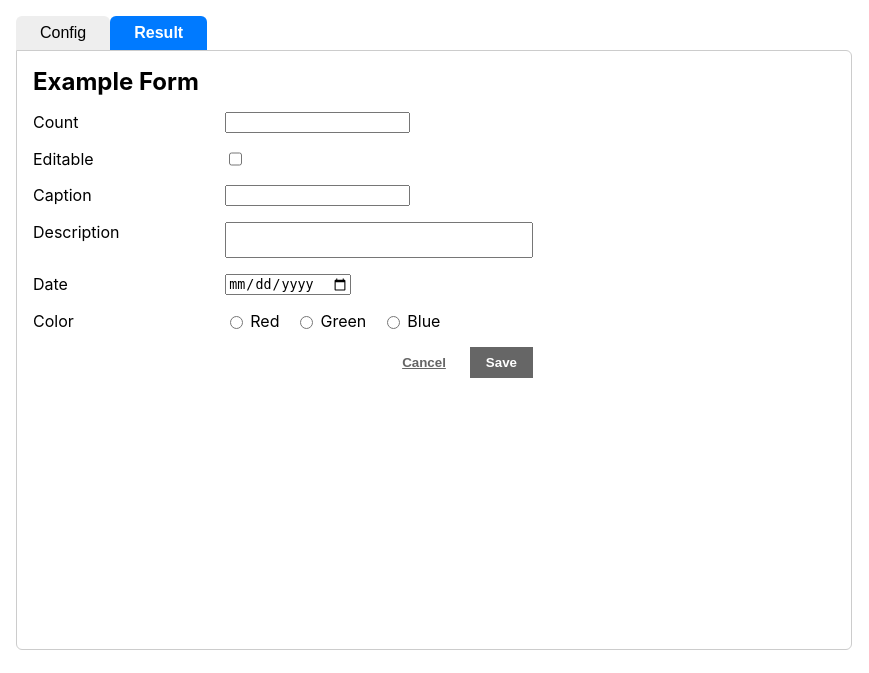
tab switching
Check: the button "Result" is disabled, box [110, 16, 207, 50]
# Switch to the Config tab
Click the button "Config". click: (63, 33)
box: [16, 16, 110, 50]
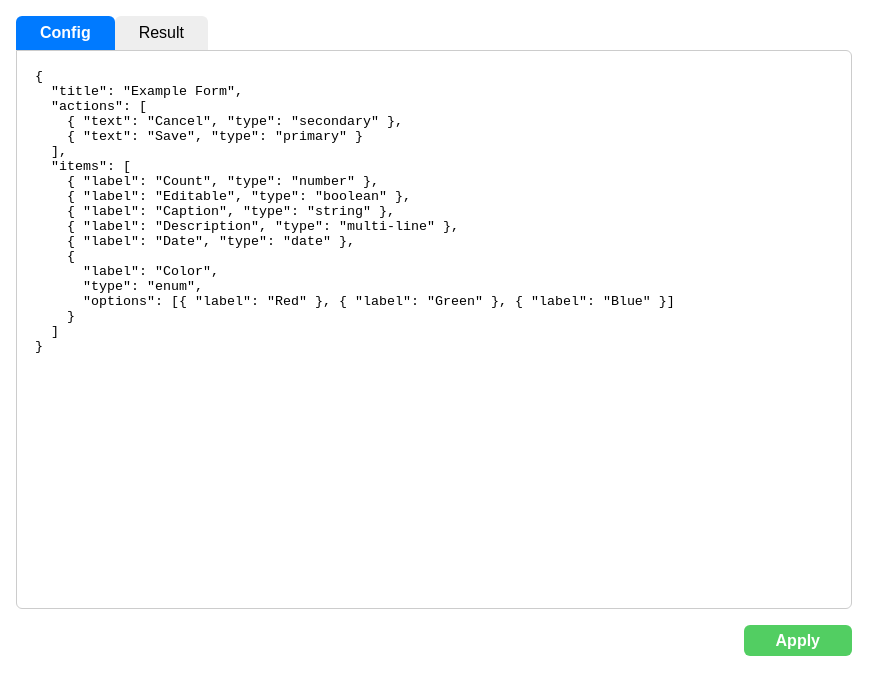
Check: the button "Result" is enabled
Check: the button "Config" is disabled, box [16, 16, 115, 50]
# Switch back to the Result tab
Click the button "Result". click: (161, 33)
box: [115, 16, 208, 50]
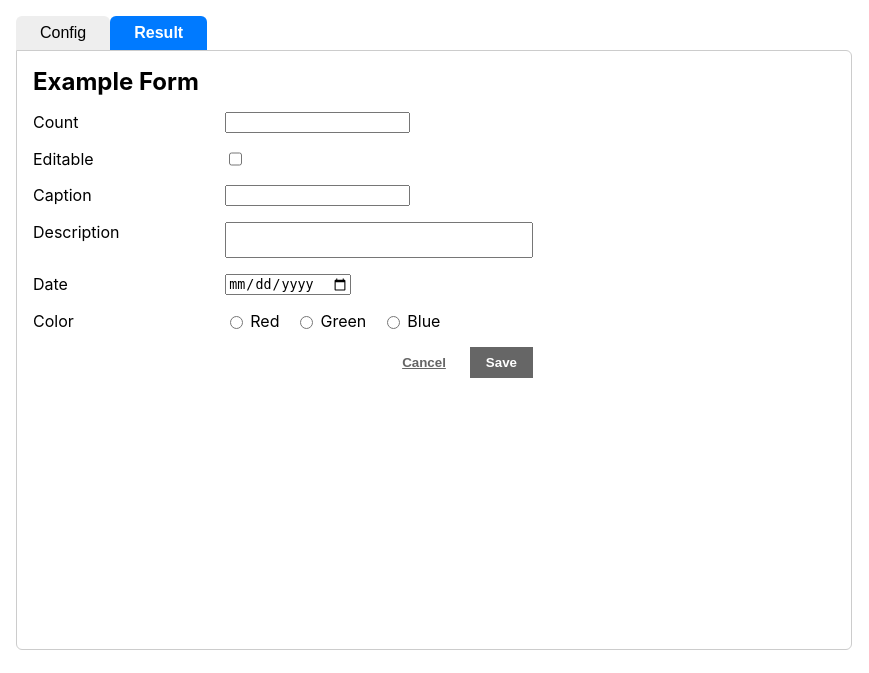
Check: the button "Result" is disabled, box [110, 16, 207, 50]
Check: the button "Config" is enabled, box [16, 16, 110, 50]
